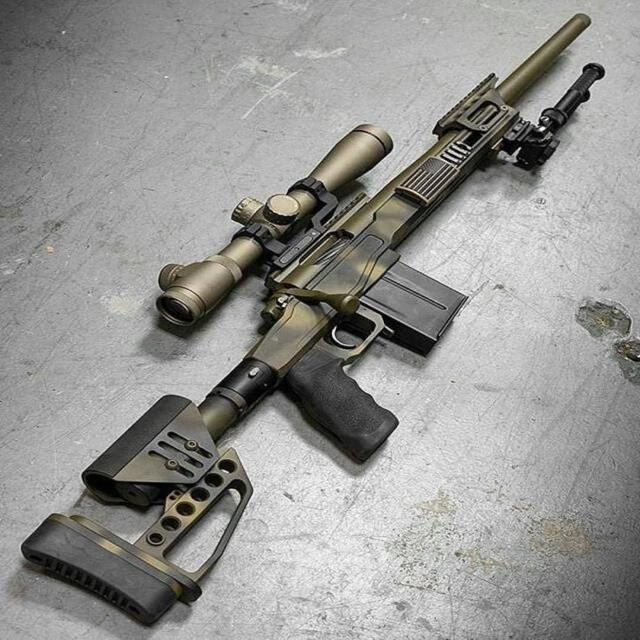Rifle: (20, 15, 605, 628)
